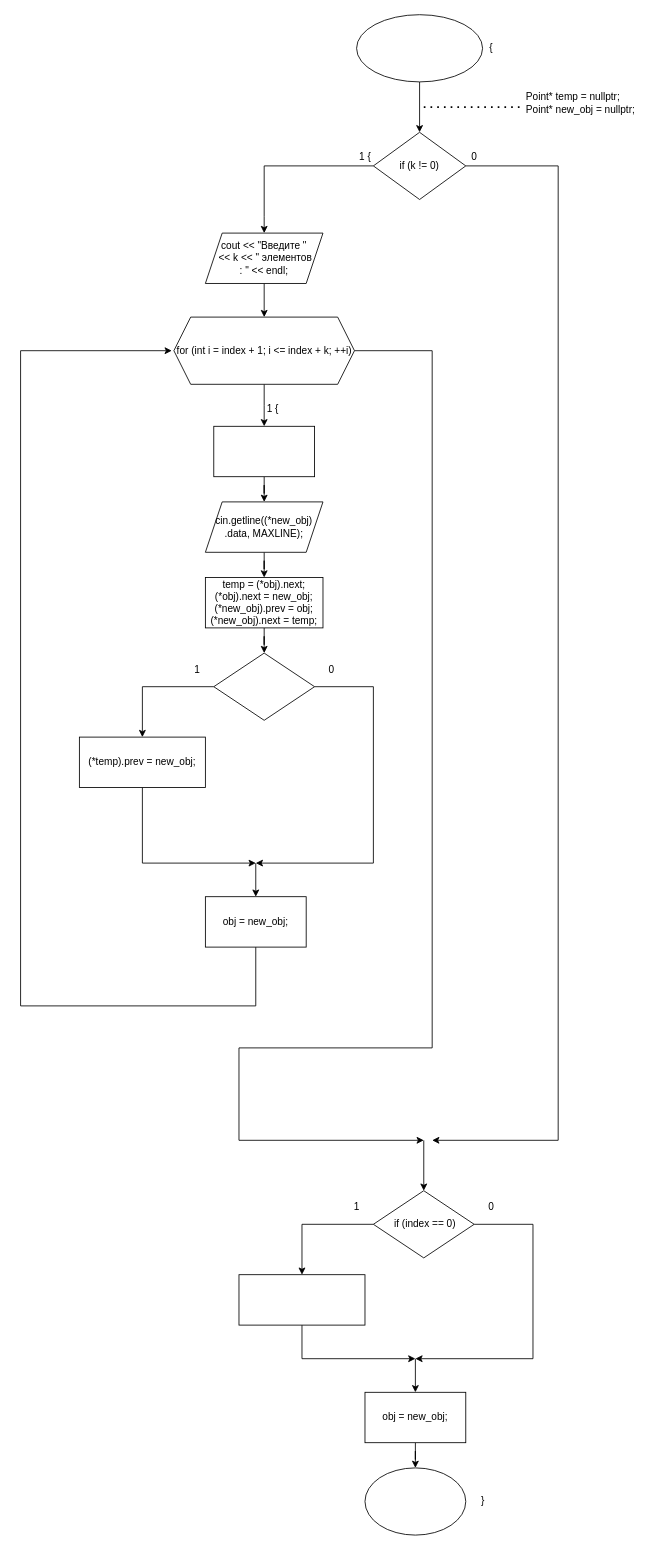
The diagram is 665 pixels wide and 1550 high, and some of its shapes have lost their labels. Each missing label, with the box of its shape:
head = new_obj;: (238, 1274, 365, 1325)
if (temp != nullptr): (213, 652, 315, 720)
new_obj = new Point;: (213, 425, 315, 477)
return;: (364, 1467, 466, 1535)
void push_back(Point* obj, int index, int k): (356, 14, 483, 82)
